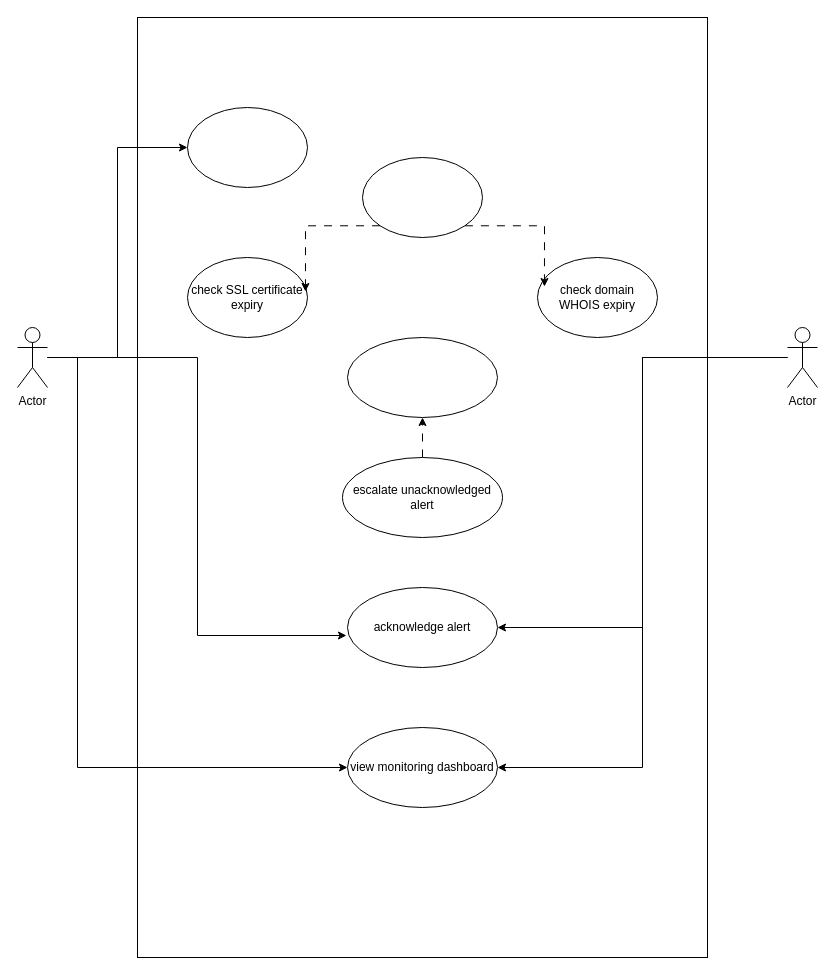
This 835x975 diagram has some shape labels left out. Each missing label, with the centre of its shape:
"manage monitored domain list" goes at point (247, 147).
"run daily scan" goes at point (422, 197).
"trigger expiry alert" goes at point (422, 377).
